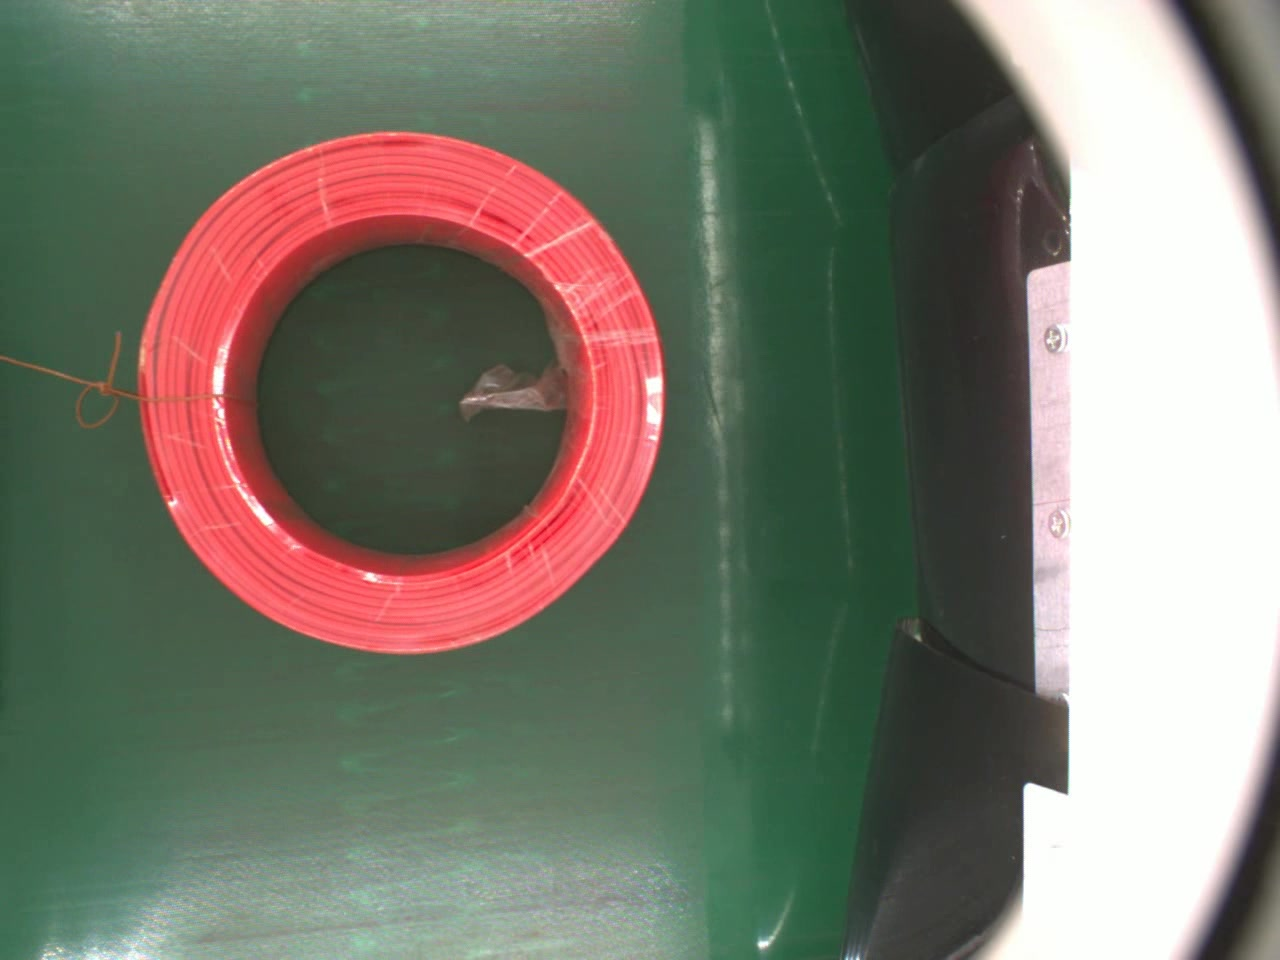red: (135, 124, 669, 657)
